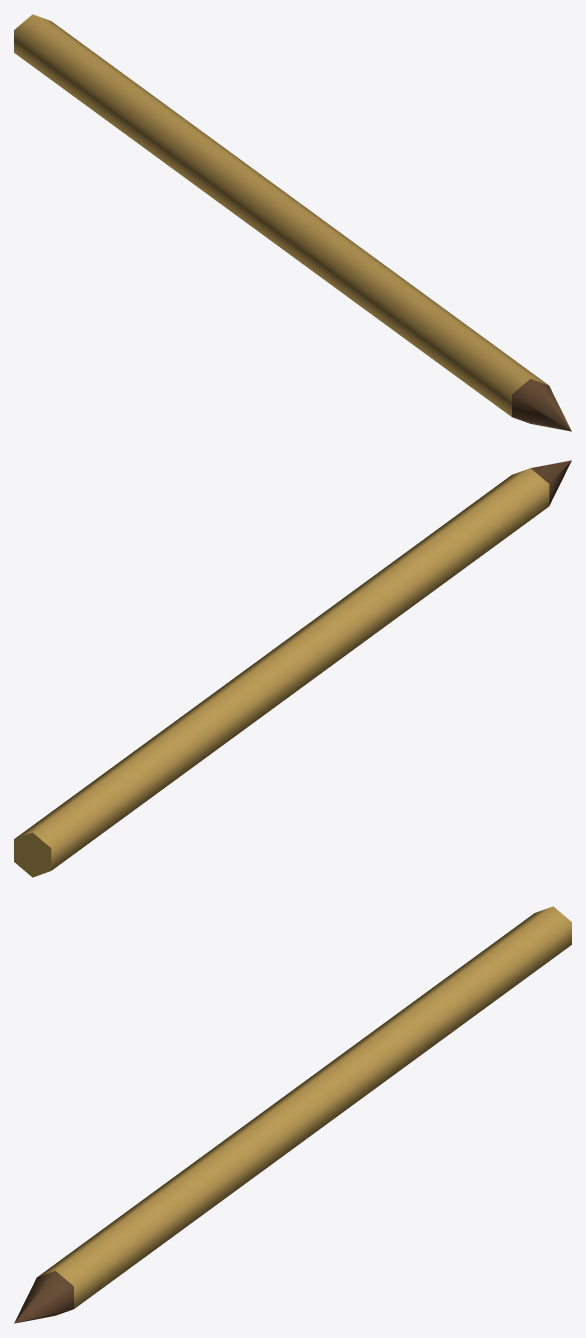
The model's file is pencil.glb.
3 renders of one model, top to bottom at view 1: azimuth 30°, elevation 25°; view 2: azimuth 150°, elevation 25°; view 3: azimuth 330°, elevation 25°, orthographic.
Parts seen in each view (by area): view 1: pencil; view 2: pencil; view 3: pencil.
Part boxes in pixels (<box>): pencil: <box>14,14,571,431</box>; pencil: <box>14,460,571,877</box>; pencil: <box>14,906,571,1323</box>.
Size of the model in its own units: 0.0156 by 0.018 by 0.39.
